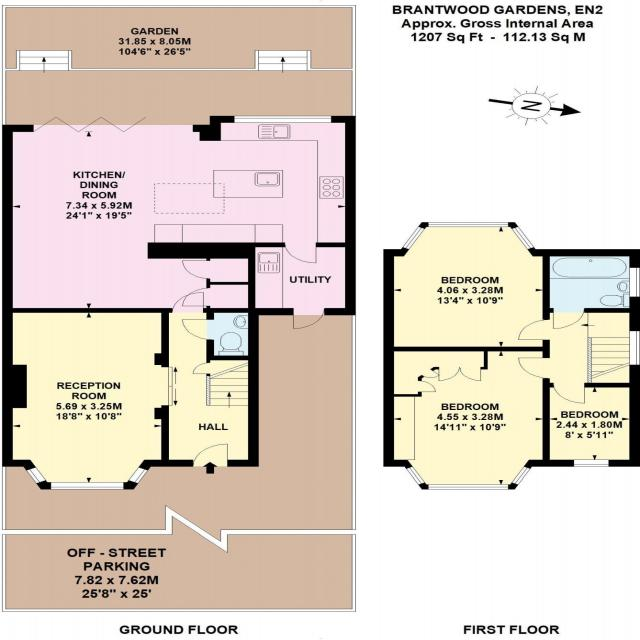DOOR: (190, 443, 230, 467), (170, 291, 206, 313), (180, 318, 214, 341), (552, 382, 586, 404), (517, 357, 550, 379), (518, 319, 550, 341), (552, 308, 585, 329)
FOLDING DOOR: (32, 113, 194, 132)
ROOM: (1, 111, 356, 331), (2, 308, 170, 490), (383, 347, 550, 490), (383, 222, 550, 352), (542, 383, 640, 467)
WINDOW: (233, 115, 335, 124), (50, 482, 125, 490), (402, 226, 426, 250), (511, 226, 535, 250), (427, 484, 510, 490), (628, 330, 640, 366), (405, 466, 426, 486), (428, 222, 509, 227), (25, 466, 47, 484), (511, 466, 531, 485), (128, 467, 149, 484), (629, 267, 640, 298), (573, 459, 609, 467)
